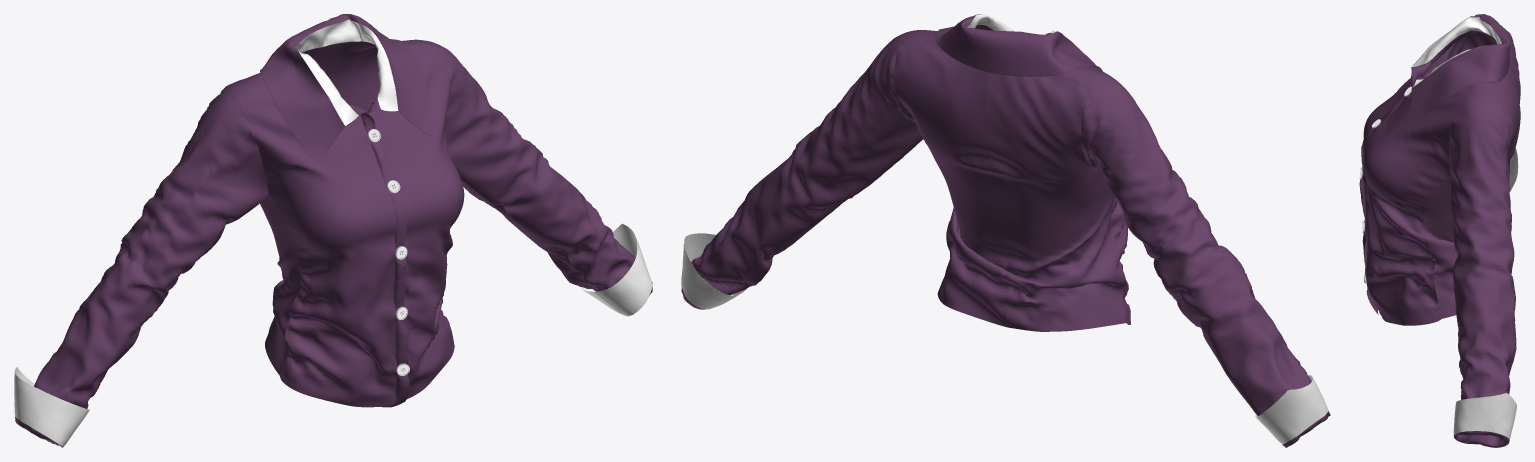
Rendered from Quad.fbx.
3 renders of one model, left to right at view 1: azimuth 30°, elevation 25°; view 2: azimuth 150°, elevation 25°; view 3: azimuth 270°, elevation 25°, orthographic. The views are drawn at different scales.
Visible parts, largest first — view 1: Quad; view 2: Quad; view 3: Quad.
Part boxes in pixels (x1,y1,x2,y2): Quad: (14,14,652,447); Quad: (681,14,1330,447); Quad: (1359,14,1520,447).
Bounding box in the file's own units: 107 × 57.05 × 28.1.
